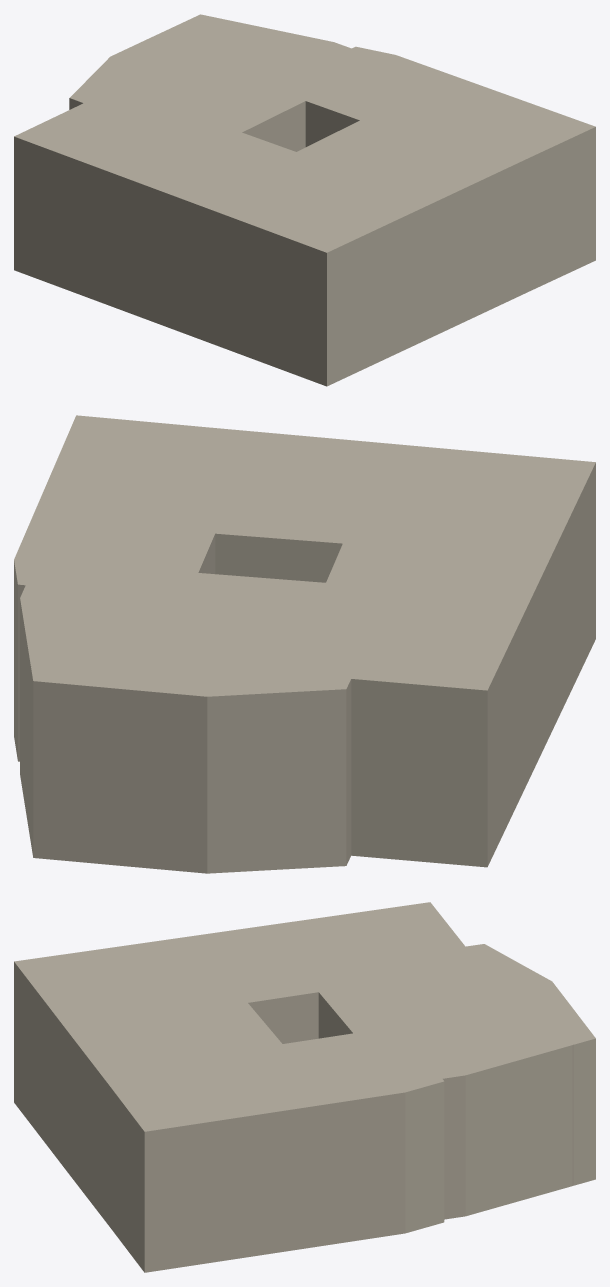
File: birgu_59_25_far.glb
The picture shows the model from 3 angles, top to bottom: view 1: azimuth 30°, elevation 25°; view 2: azimuth 150°, elevation 25°; view 3: azimuth 270°, elevation 25°; orthographic projection. The views are drawn at different scales.
Visible parts, largest first — view 1: geometry_0; view 2: geometry_0; view 3: geometry_0.
Boxes of the visible parts, left/top/right/bottom form: geometry_0: left=14, top=14, right=595, bottom=386; geometry_0: left=14, top=415, right=595, bottom=873; geometry_0: left=14, top=902, right=595, bottom=1272.
Bounding box in the file's own units: 41.6 × 11.91 × 44.54.
